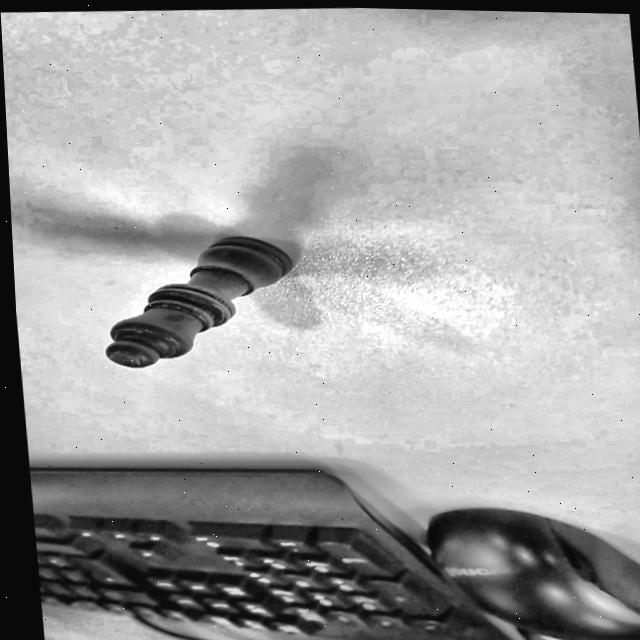black-queen: (90, 223, 313, 376)
